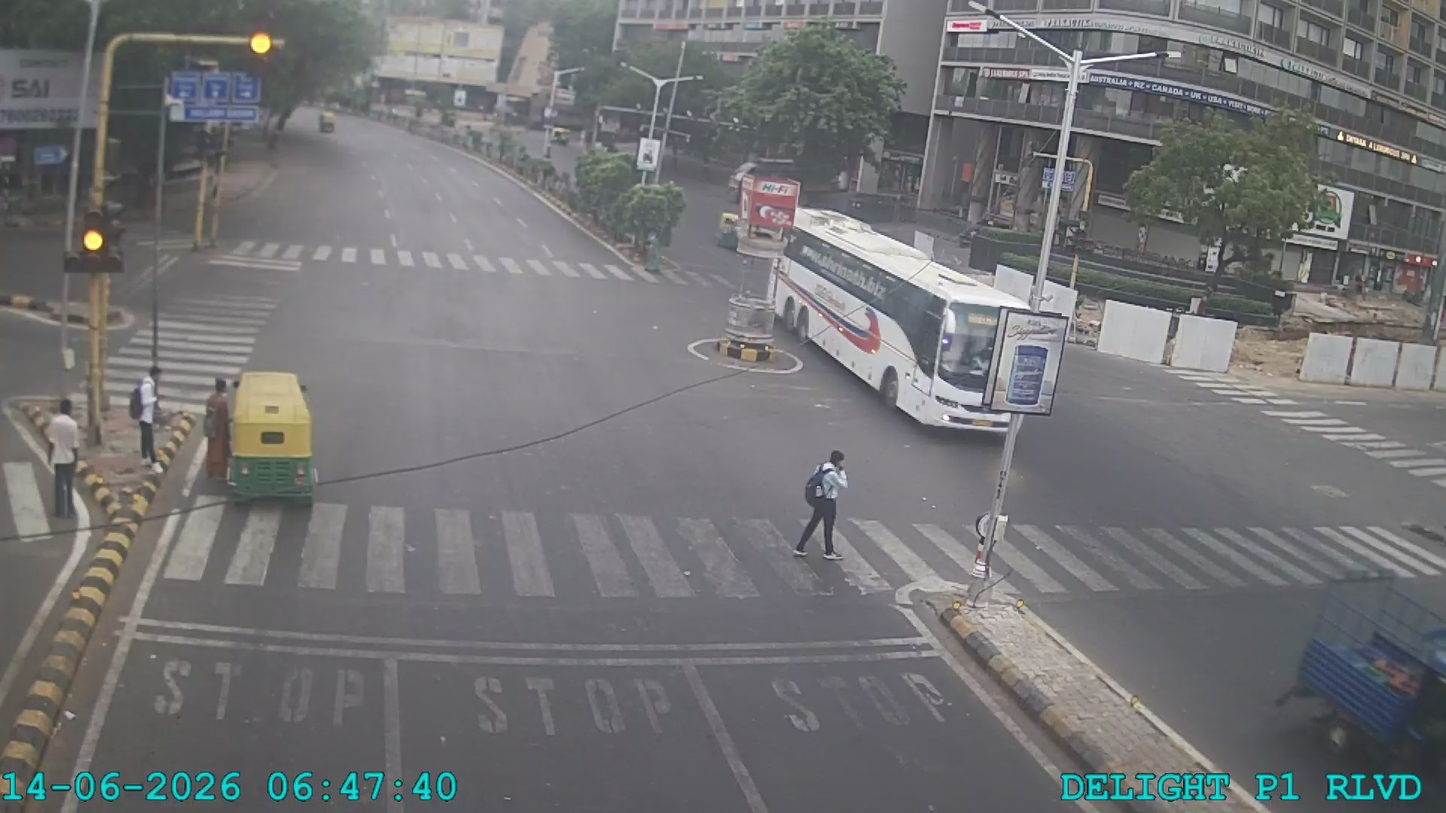auto_rickshaw: (226, 364, 316, 498), (714, 207, 743, 253), (315, 104, 342, 139)
bus: (767, 261, 1075, 412), (1279, 545, 1446, 772)
pedestrian: (12, 390, 85, 523), (36, 391, 85, 521), (800, 443, 851, 563), (128, 358, 166, 465)
